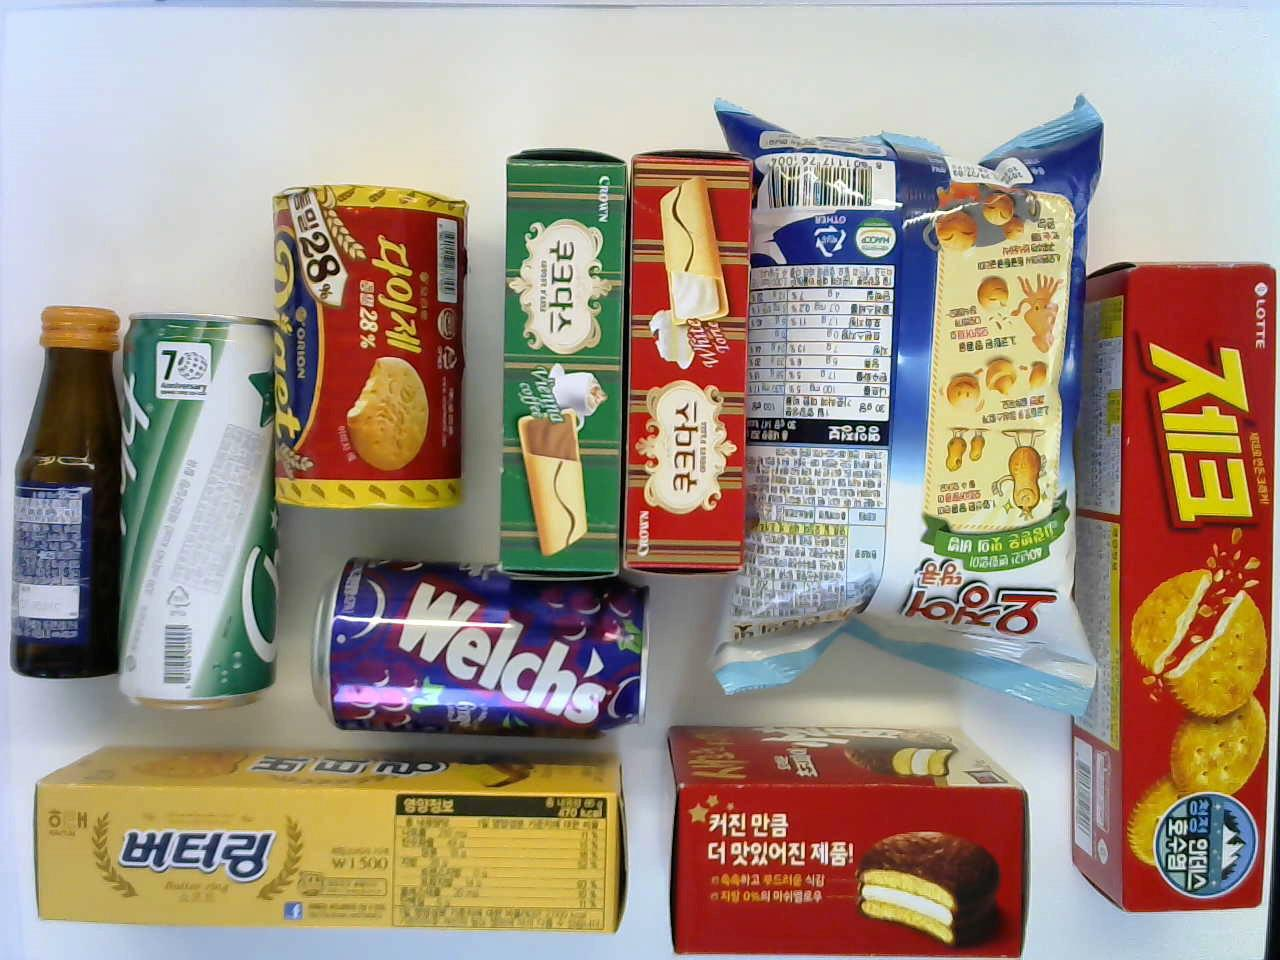buttering: (32, 753, 629, 921)
chocopie: (666, 724, 1028, 959)
cidar: (118, 307, 281, 709)
couque_coffee: (499, 146, 619, 583)
couque_white: (624, 146, 753, 574)
diget_ori: (265, 182, 470, 509)
squid_peanut: (707, 86, 1111, 705)
vita500: (4, 301, 118, 686)
welchs: (307, 554, 644, 741)
zec: (1068, 259, 1273, 912)
